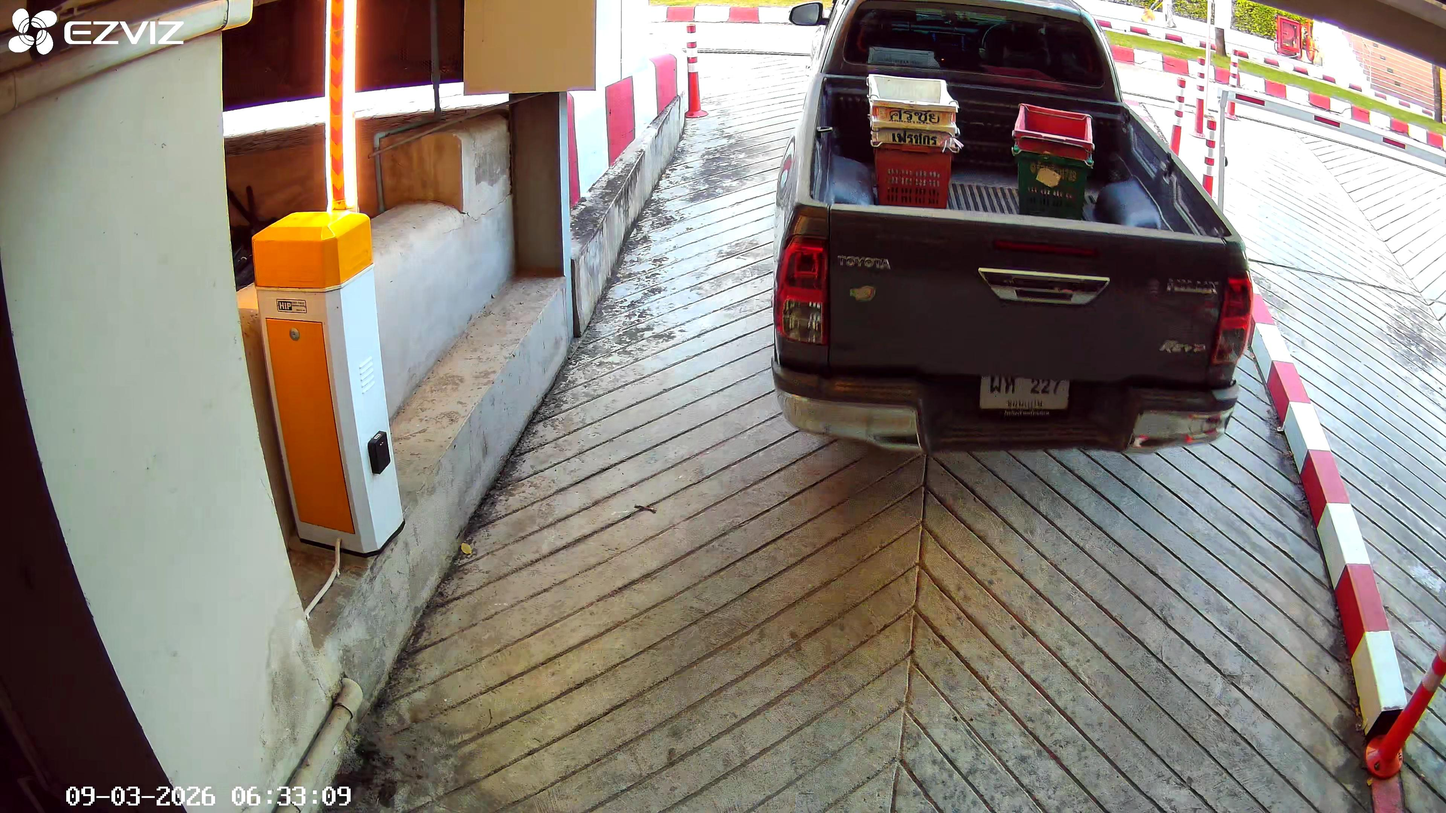car: (768, 0, 1256, 455)
license-plate: (976, 370, 1072, 414)
